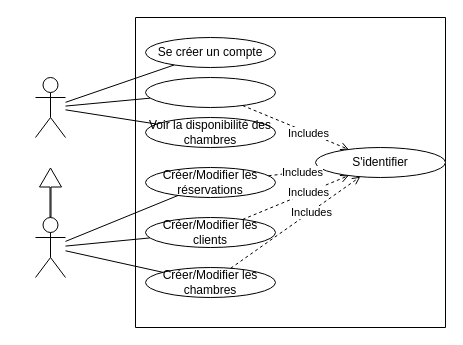
Image size: 463x345. Some labels were removed from this diagram. The shapes that lost their labels are listed below. From the top down, each one's centre as x and y in pixels, then its label:
the point at 50,107: Clients
the point at 210,92: Réserver
the point at 50,247: Employé(e)s
